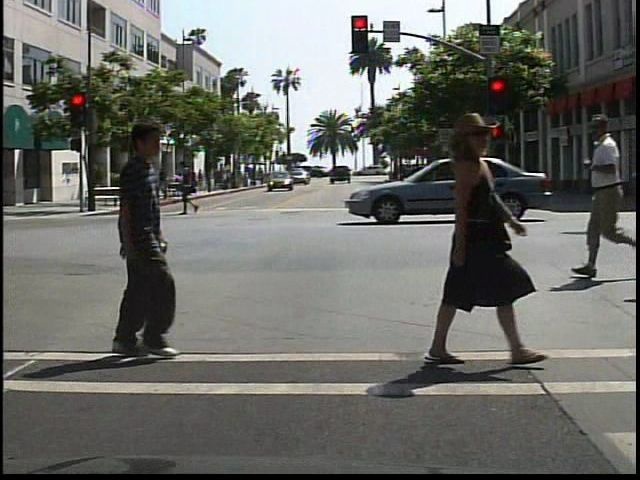person: (72, 123, 215, 360), (408, 113, 541, 367), (174, 156, 209, 218), (132, 164, 153, 208)
